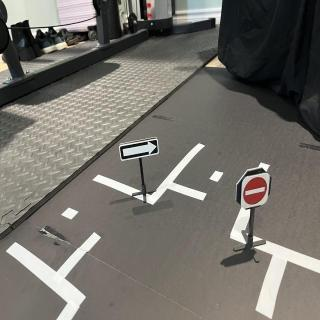sign_noentry: (241, 173, 273, 210)
sign_oneway_right: (119, 136, 161, 164)
